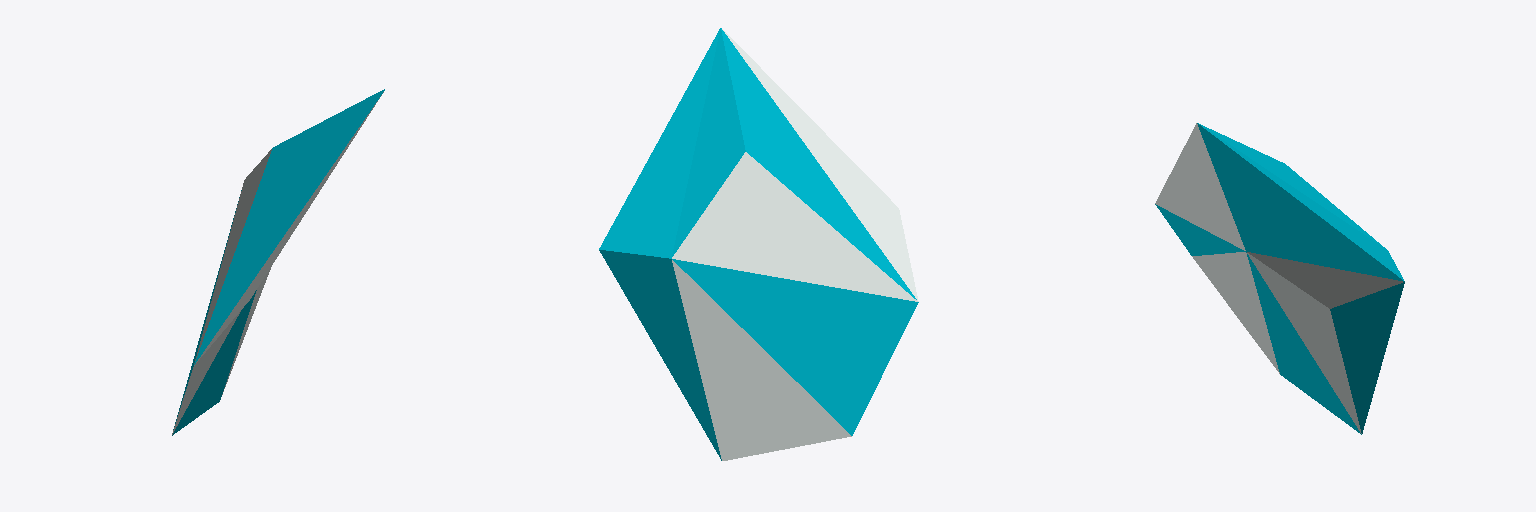
Rendered from Deep Sea Scale.obj.
3 views of the same model, side by side, from view 1: azimuth 30°, elevation 25°; view 2: azimuth 150°, elevation 25°; view 3: azimuth 270°, elevation 25° (orthographic).
Parts seen in each view (by area): view 1: group[number redacted]; view 2: group[number redacted]; view 3: group[number redacted].
Part boxes in pixels (x1,y1,x2,y2): group[number redacted]: (172,89,384,435); group[number redacted]: (599,28,918,460); group[number redacted]: (1155,123,1404,434).
Bounding box in the file's own units: 0.1922 × 0.3045 × 0.1954.